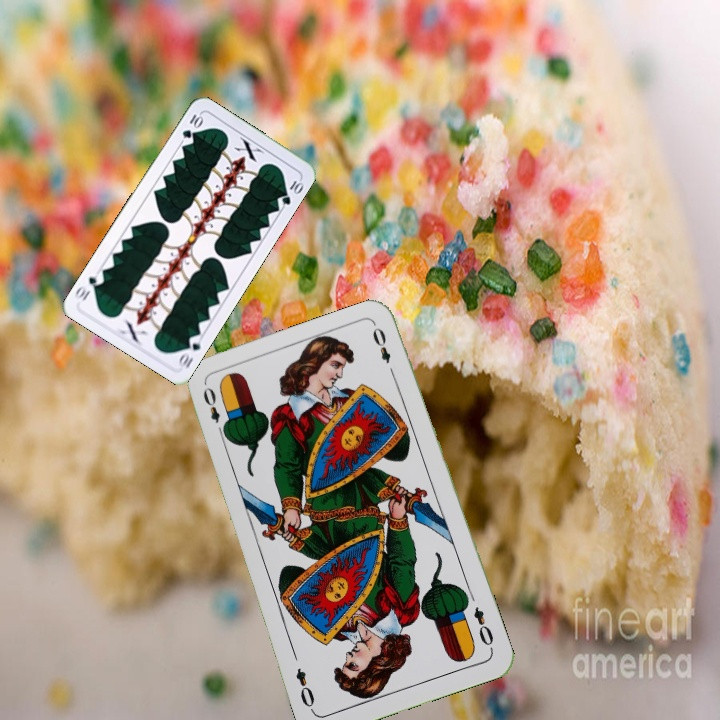EO: (199, 383, 229, 440), (469, 602, 496, 653)
G10: (175, 330, 203, 371), (178, 110, 206, 141)
